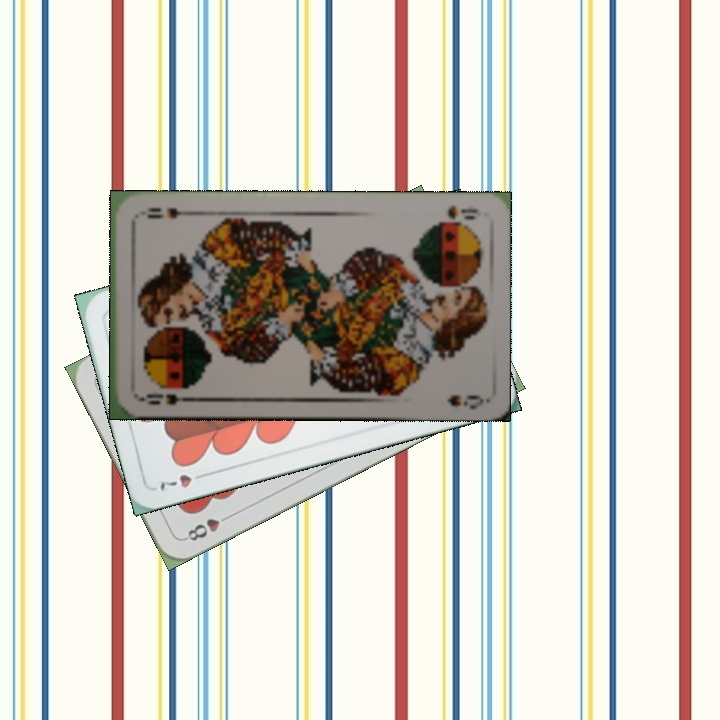H7: (156, 468, 211, 494)
H8: (180, 509, 235, 544)
SO: (134, 390, 193, 408), (444, 202, 481, 222)
